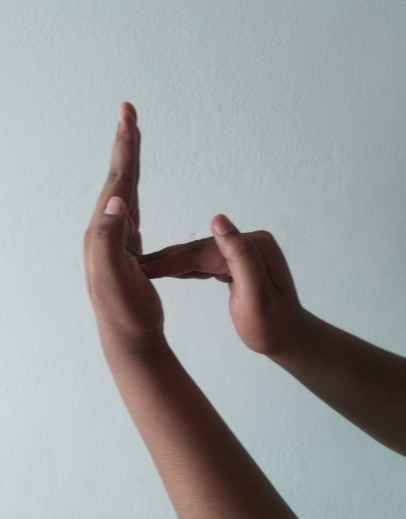ga: (79, 100, 299, 374)
